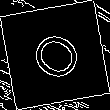O_SE: (21, 23, 89, 87)
